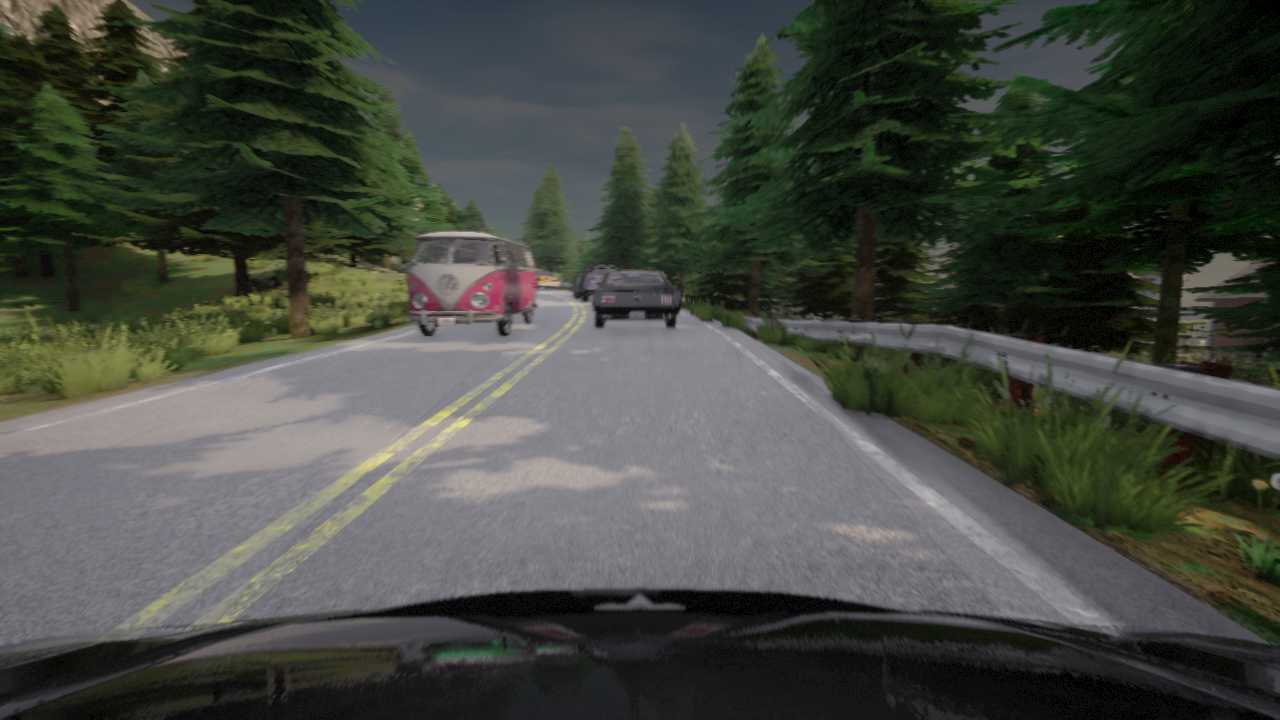cyclist: (0, 588, 1279, 719), (401, 230, 537, 336), (593, 270, 681, 327), (573, 264, 617, 301), (536, 268, 558, 289), (1178, 338, 1195, 344), (1186, 337, 1199, 341)
